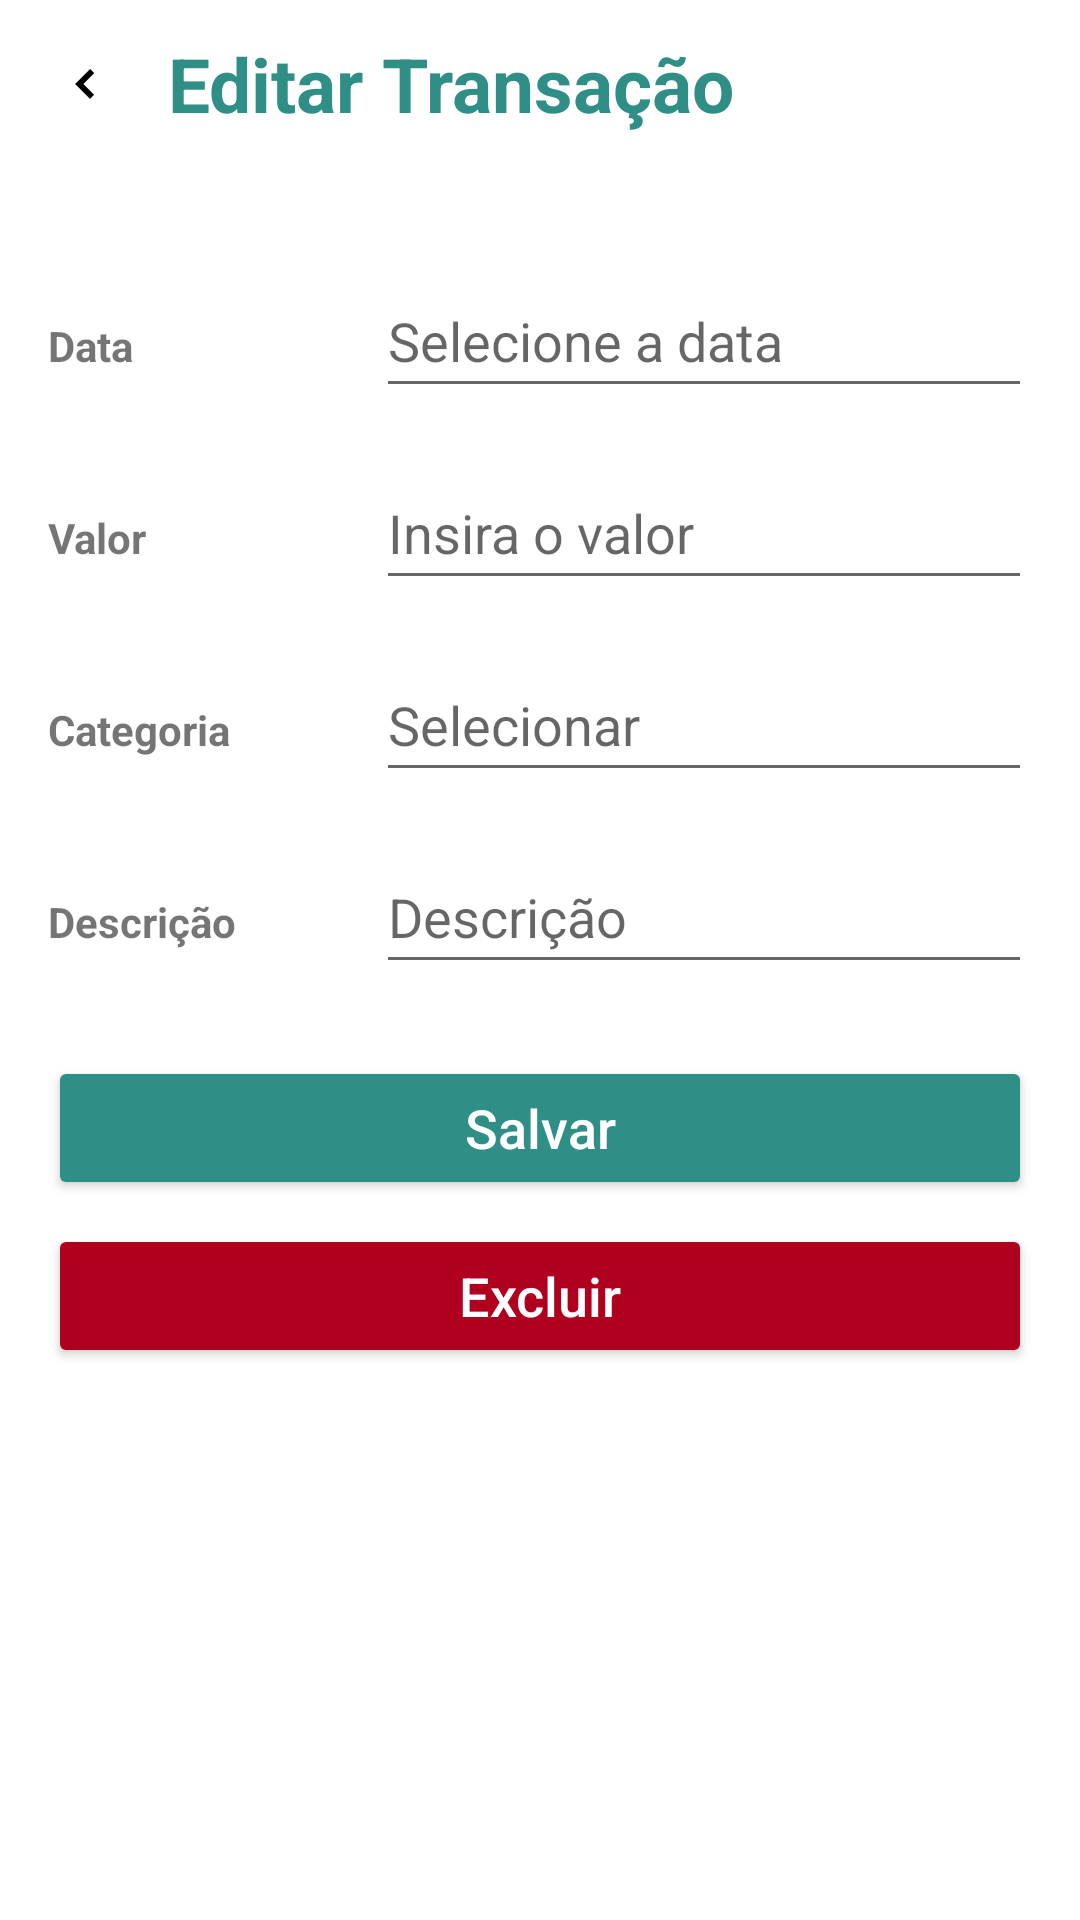

Icons on this 1080x1920 Android screen, each with its box as {"left": x1, "top": y1, "right": x2, "bottom": y2}:
Voltar: {"left": 75, "top": 69, "right": 94, "bottom": 99}
